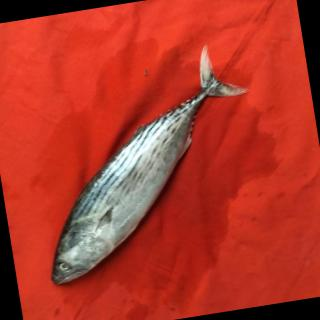Ikan: (18, 38, 282, 294)
